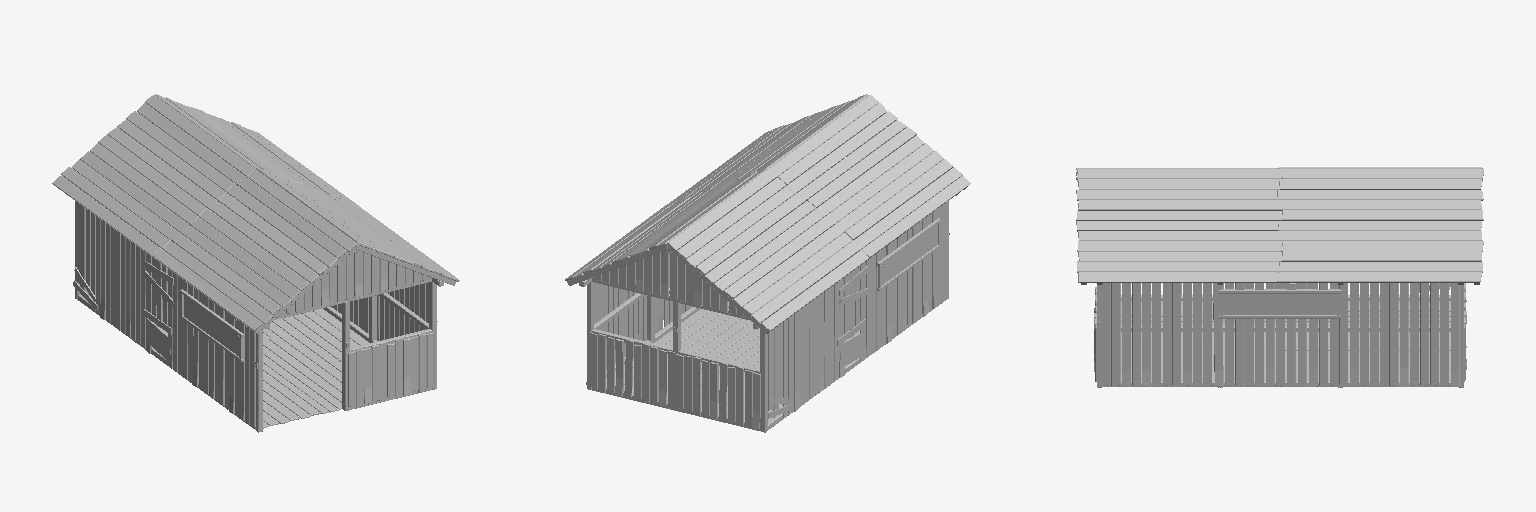
The model's file is uploads_files_4499267_Farm_free_obj.obj.
3 views of the same model, side by side, from view 1: azimuth 30°, elevation 25°; view 2: azimuth 150°, elevation 25°; view 3: azimuth 270°, elevation 25° (orthographic).
Parts seen in each view (by area): view 1: Farm_Free; view 2: Farm_Free; view 3: Farm_Free.
Part boxes in pixels (left/top/right/bottom): Farm_Free: left=52, top=94, right=459, bottom=432; Farm_Free: left=565, top=94, right=970, bottom=432; Farm_Free: left=1076, top=167, right=1483, bottom=387.
Bounding box in the file's own units: 5.93 × 4.83 × 10.14.